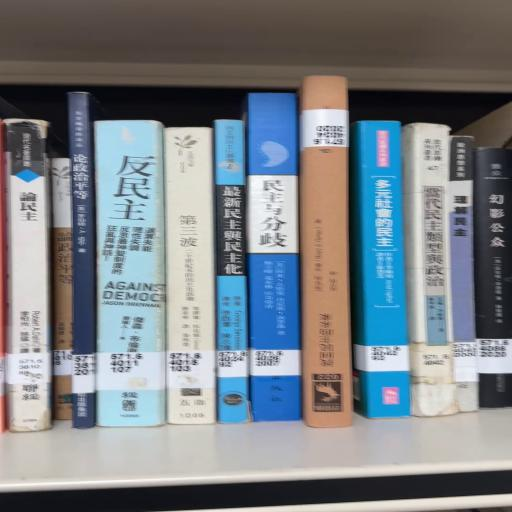reverse: (300, 77, 353, 428)
